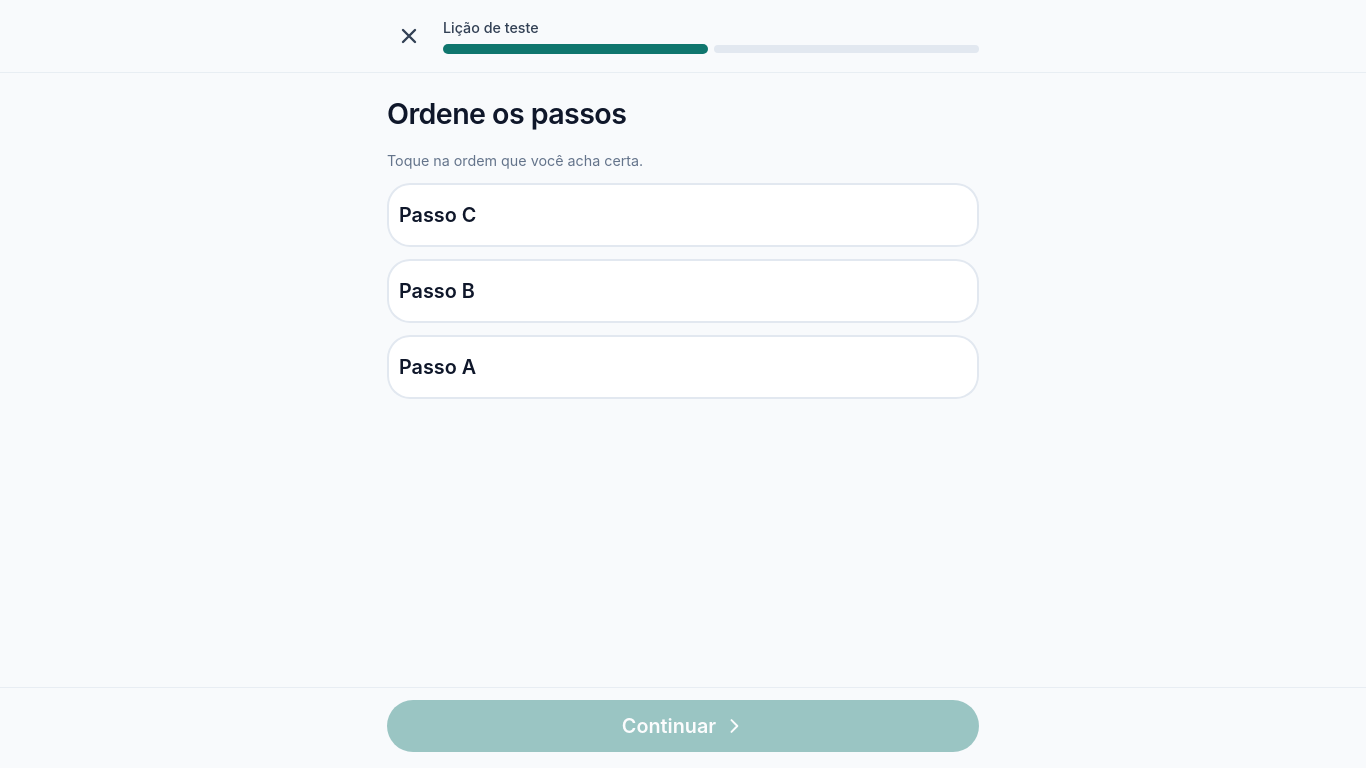
Test: ordering: seleção e ordenação reversíveis antes da confirmação › desfazer um item do meio retira da sequência e renumera os seguintes
The image size is (1366, 768).
Click the button "Passo A" at (438, 367), box [387,335,979,399]
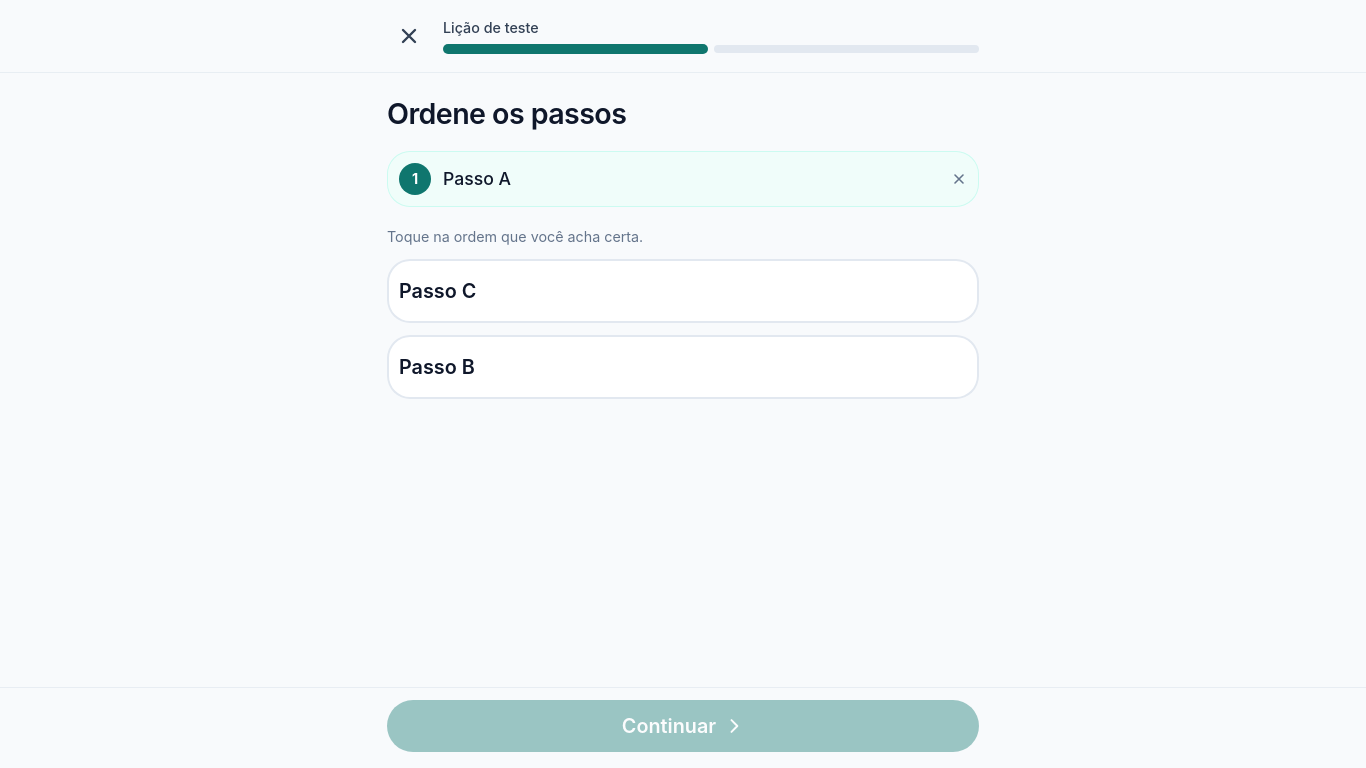
Click the button "Passo B" at (437, 367), box [387,335,979,399]
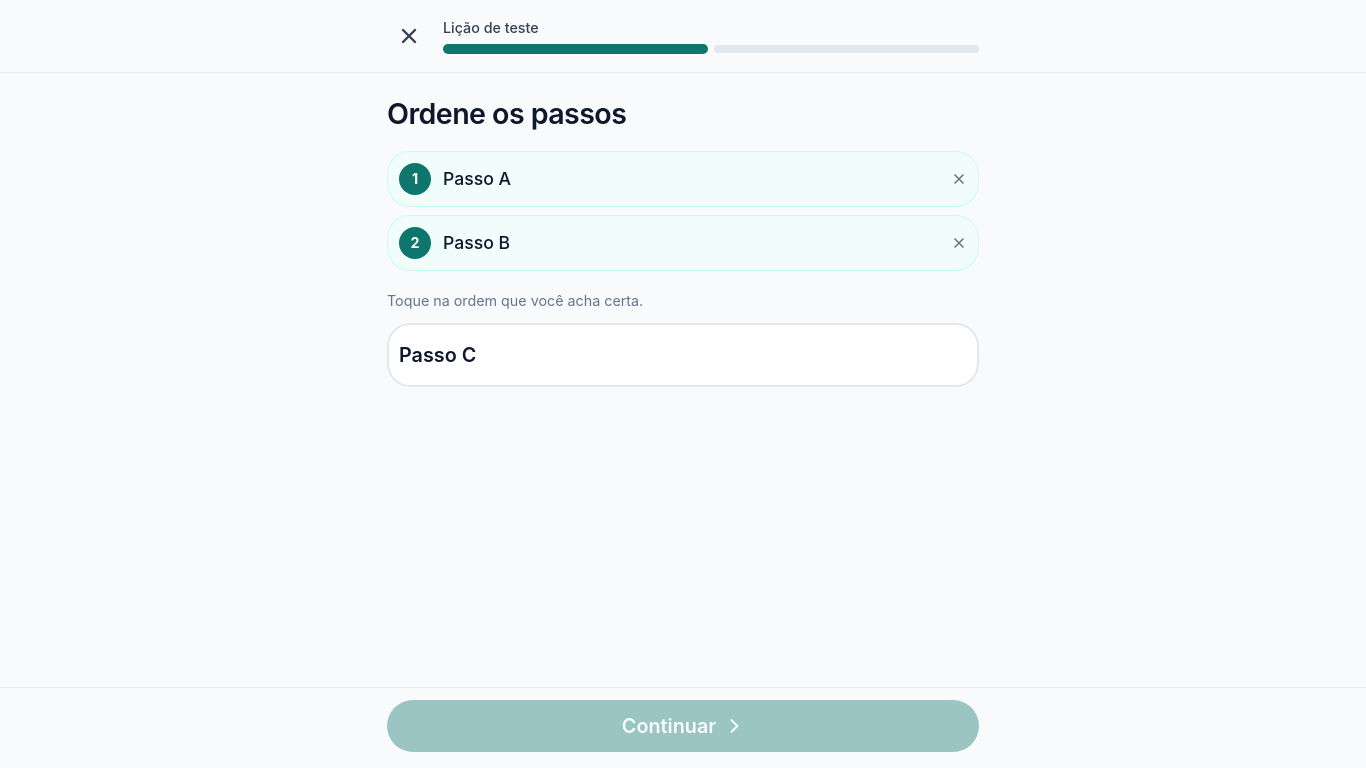
Click the button "Passo C" at (438, 355), box [387,323,979,387]
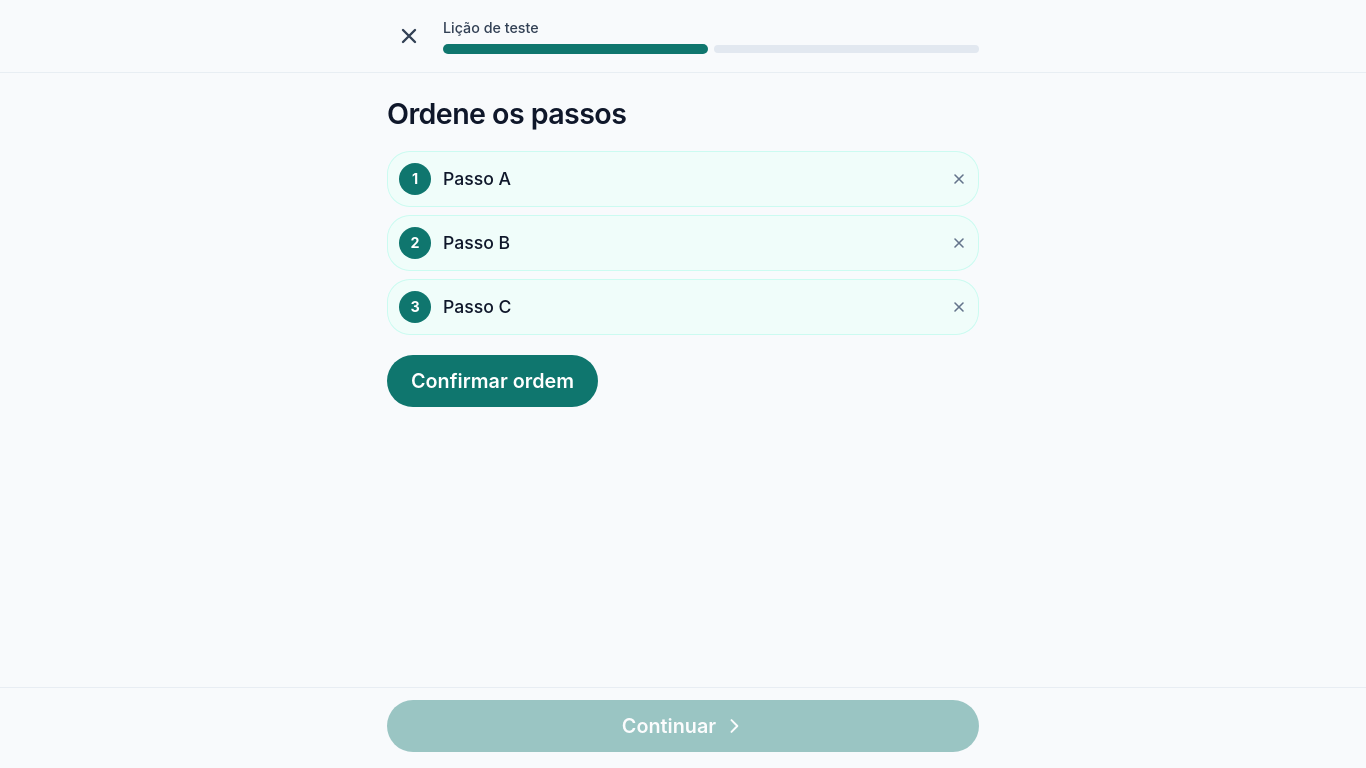
# Retira "Passo B" (posição 2) clicando no item já selecionado.
Click the button with aria-label "Retirar Passo B" at (415, 243), box [387,215,979,271]
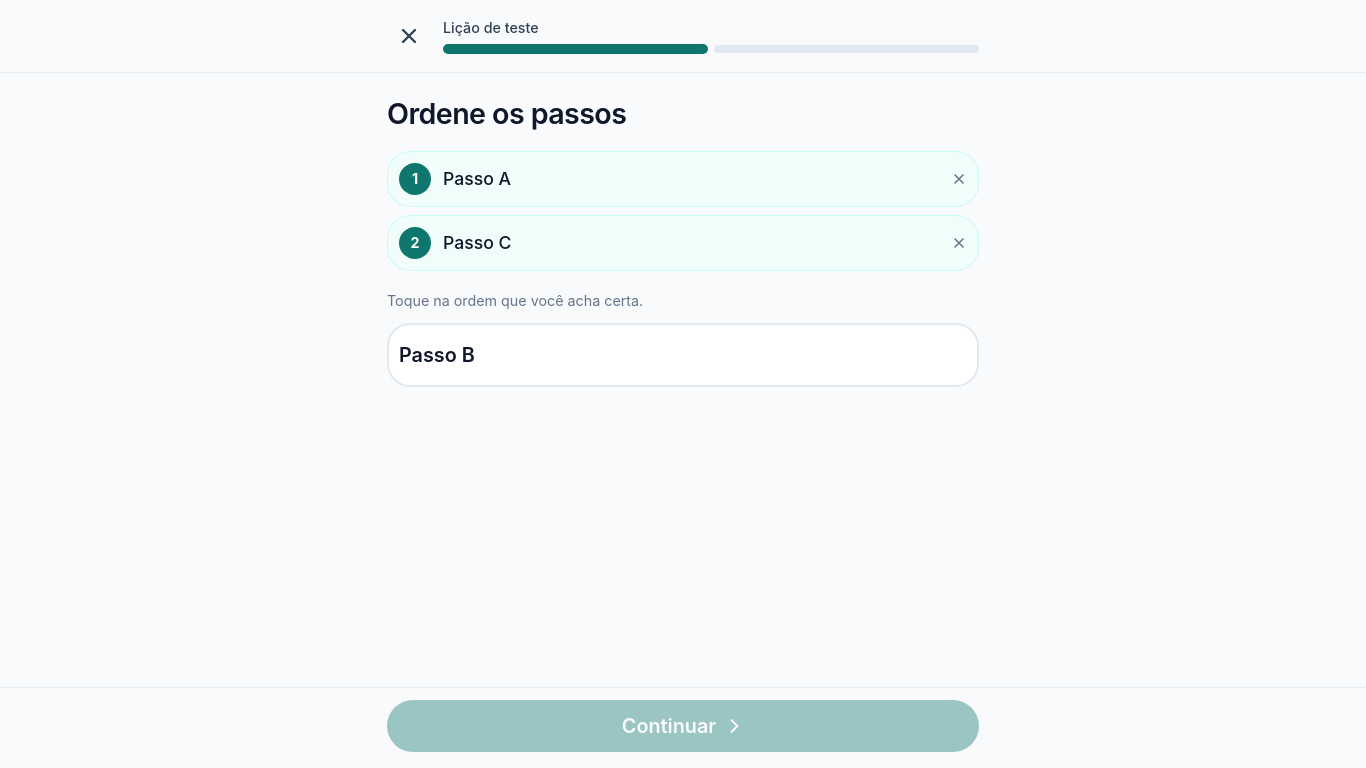
Expected: the list item "1 Passo A" is shown, [387,151,979,207]
Expected: the button "Passo B" is shown, [387,323,979,387]
Expected: the list item "2 Passo C" is shown, [387,215,979,271]
